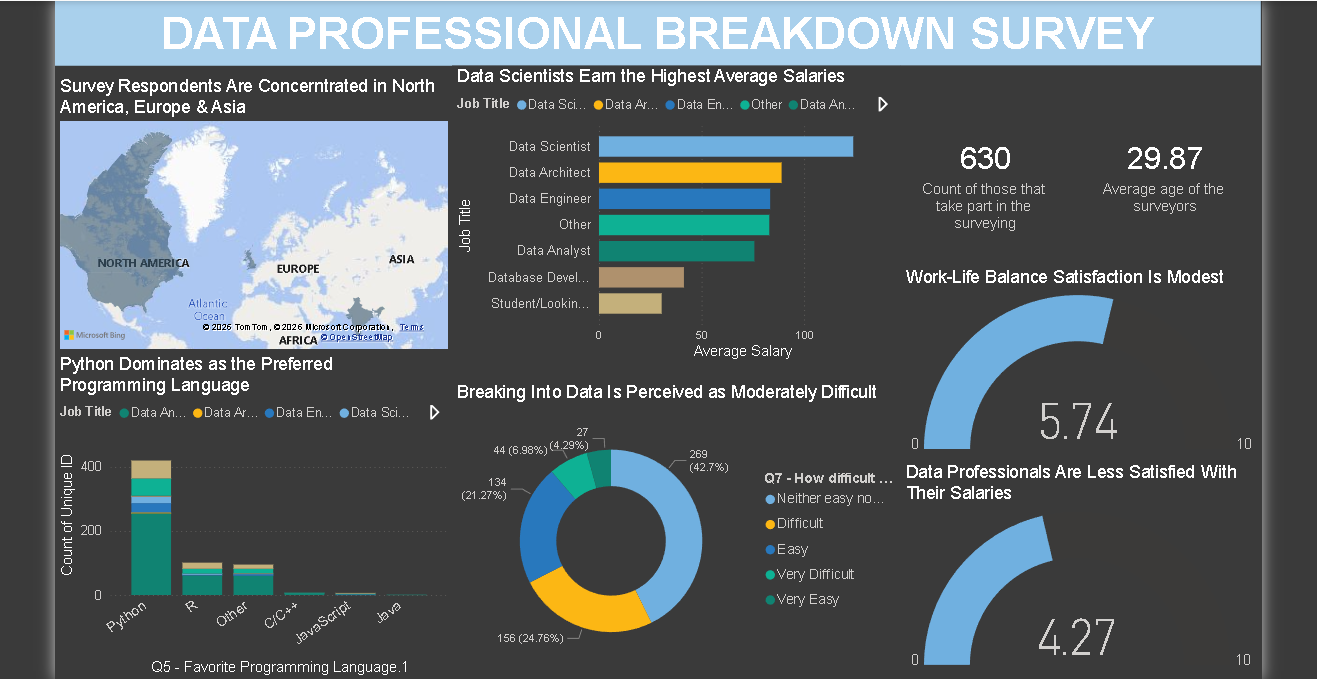

This screenshot's page, from the dashboard's own definition file:
{"tool":"powerbi","page":{"name":"Page 1","canvas":[1280,720],"ordinal":0},"visuals":[{"type":"textbox","box":[9.4,0,1269.9,100.2],"z":0},{"type":"textbox","box":[0,0,1278.7,68.9],"z":1000},{"type":"card","fields":{"Values":["Avg(Data Professional Survey.Q10 - Current Age)"]},"box":[1075.3,68.4,203.6,213.1],"z":2000},{"type":"card","fields":{"Values":["CountNonNull(Data Professional Survey.Unique ID)"]},"box":[897.1,68.4,178.1,213.1],"z":3000},{"type":"barChart","title":"Data Scientists Earn the Highest Average Salaries","fields":{"Category":["Data Professional Survey.Q1 - Which Title Best Fits your Current Role?.1"],"Y":["Avg(Data Professional Survey.Average Salary)"],"Series":["Data Professional Survey.Q1 - Which Title Best Fits your Current Role?.1"]},"box":[421.5,68.4,475.6,316.5],"z":4000},{"type":"columnChart","title":"Python Dominates as the Preferred Programming Language","fields":{"Category":["Data Professional Survey.Q5 - Favorite Programming Language.1"],"Y":["CountNonNull(Data Professional Survey.Unique ID)"],"Series":["Data Professional Survey.Q1 - Which Title Best Fits your Current Role?.1"]},"box":[0,373.8,421.5,346.8],"z":5000},{"type":"filledMap","title":"Survey Respondents Are Concerntrated in North America, Europe & Asia","fields":{"Category":["Data Professional Survey.Q11 - Which Country do you live in?.1"]},"box":[0,79.5,421.5,294.3],"z":5001},{"type":"gauge","title":"Work-Life Balance Satisfaction Is Modest","fields":{"Y":["Avg(Data Professional Survey.Q6 - How Happy are you in your Current Position with the following? (Work/Life Balance))"],"MinValue":["Min(Data Professional Survey.Q6 - How Happy are you in your Current Position with the following? (Work/Life Balance))1"],"MaxValue":["Max(Data Professional Survey.Q6 - How Happy are you in your Current Position with the following? (Work/Life Balance))2"]},"box":[897.1,281.5,383.3,206.8],"z":5002},{"type":"gauge","title":"Data Professionals Are Less Satisfied With Their Salaries","fields":{"Y":["Avg(Data Professional Survey.Q6 - How Happy are you in your Current Position with the following? (Salary))"],"MinValue":["Min(Data Professional Survey.Q6 - How Happy are you in your Current Position with the following? (Salary))"],"MaxValue":["Max(Data Professional Survey.Q6 - How Happy are you in your Current Position with the following? (Salary))"]},"box":[897.1,488.3,381.7,230.6],"z":5003},{"type":"donutChart","title":"Breaking Into Data Is Perceived as Moderately Difficult","fields":{"Category":["Data Professional Survey.Q7 - How difficult was it for you to break into Data?"],"Y":["CountNonNull(Data Professional Survey.Q7 - How difficult was it for you to break into Data?)"]},"box":[421.5,404,475.6,314.9],"z":5004}]}

Visuals, with their boxes on the page's 1280x720 design canvas (x1, y1, x2, y2). These are canvas units, not pixel positions in the 1317x679 screenshot, which may show the page scaled, cropped or inside an application window:
textbox: box(9, 0, 1279, 100)
textbox: box(0, 0, 1279, 69)
card - Avg(Data Professional Survey.Q10 - Current Age): box(1075, 68, 1279, 282)
card - CountNonNull(Data Professional Survey.Unique ID): box(897, 68, 1075, 282)
"Data Scientists Earn the Highest Average Salaries" barChart: box(422, 68, 897, 385)
"Python Dominates as the Preferred Programming Language" columnChart: box(0, 374, 422, 721)
"Survey Respondents Are Concerntrated in North America, Europe & Asia" filledMap: box(0, 80, 422, 374)
"Work-Life Balance Satisfaction Is Modest" gauge: box(897, 282, 1280, 488)
"Data Professionals Are Less Satisfied With Their Salaries" gauge: box(897, 488, 1279, 719)
"Breaking Into Data Is Perceived as Moderately Difficult" donutChart: box(422, 404, 897, 719)
